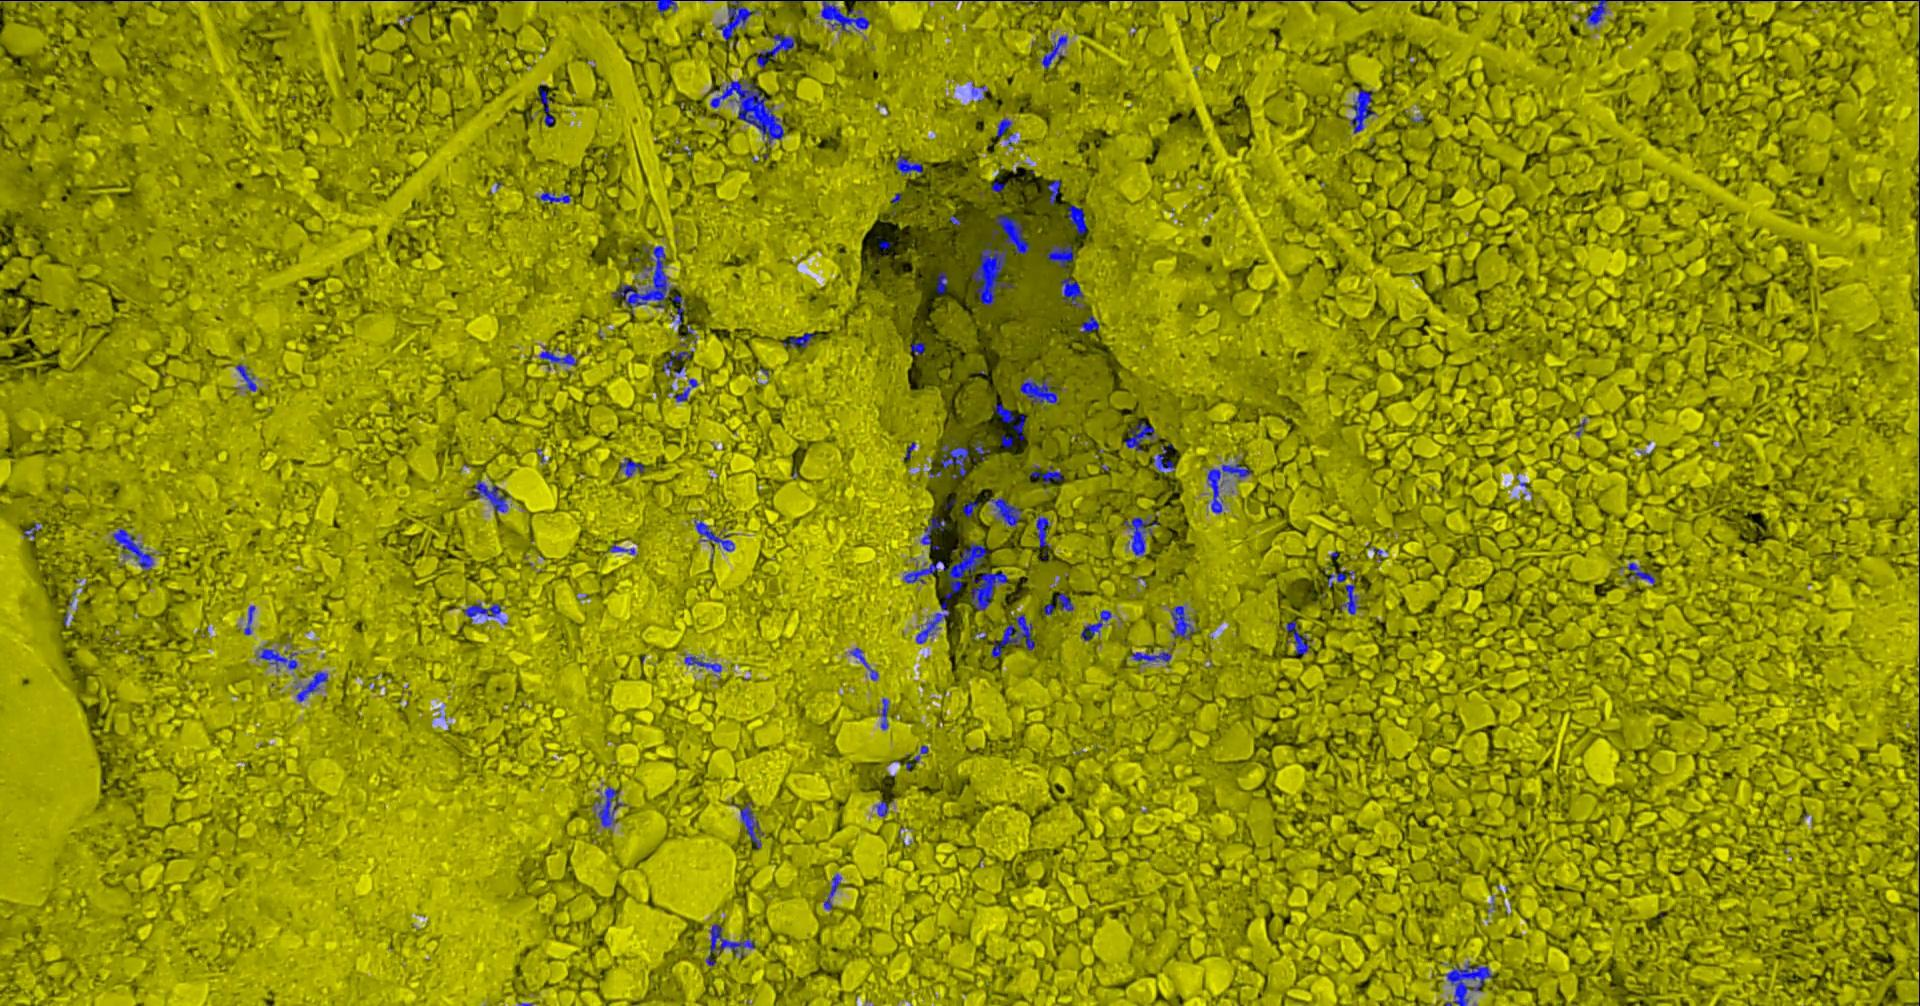ant: (1208, 464, 1251, 512), (1445, 962, 1492, 1005), (990, 614, 1035, 657), (112, 528, 152, 569), (715, 0, 757, 39), (990, 213, 1030, 254), (970, 567, 1007, 610), (820, 0, 869, 32), (709, 923, 756, 955), (756, 33, 795, 67), (940, 442, 977, 478), (1123, 517, 1157, 555), (693, 520, 734, 551), (469, 479, 507, 512), (594, 786, 623, 827), (993, 403, 1025, 439), (1018, 377, 1057, 408), (739, 801, 763, 848), (1350, 89, 1375, 133), (985, 497, 1021, 526), (1079, 608, 1111, 640), (296, 671, 328, 701), (1124, 420, 1157, 450), (1285, 620, 1312, 655), (850, 647, 877, 680), (258, 647, 297, 669), (1041, 36, 1067, 69), (919, 516, 945, 549), (1170, 605, 1194, 639), (1060, 276, 1084, 307), (535, 86, 554, 126), (538, 345, 577, 365), (662, 351, 693, 373), (1048, 243, 1074, 269), (1578, 0, 1608, 24), (684, 655, 721, 674), (1043, 592, 1073, 615), (1030, 465, 1065, 484), (463, 602, 502, 620), (1625, 561, 1655, 584), (1035, 516, 1050, 559), (823, 873, 841, 909), (1152, 445, 1175, 473), (235, 363, 257, 391), (1067, 205, 1087, 234), (1340, 583, 1359, 614), (895, 155, 922, 175), (674, 379, 697, 401), (1324, 569, 1354, 587), (618, 457, 644, 478), (782, 332, 815, 347), (1131, 650, 1171, 663), (670, 295, 684, 324), (536, 191, 570, 202), (971, 439, 990, 459), (243, 605, 254, 634), (1048, 179, 1060, 205), (1079, 315, 1098, 332), (23, 521, 41, 537), (996, 118, 1011, 137), (935, 271, 947, 293), (657, 0, 676, 14), (608, 542, 634, 553), (963, 500, 978, 516), (880, 699, 888, 729), (909, 340, 924, 354), (876, 800, 888, 815), (999, 434, 1012, 447), (990, 180, 1004, 192)
